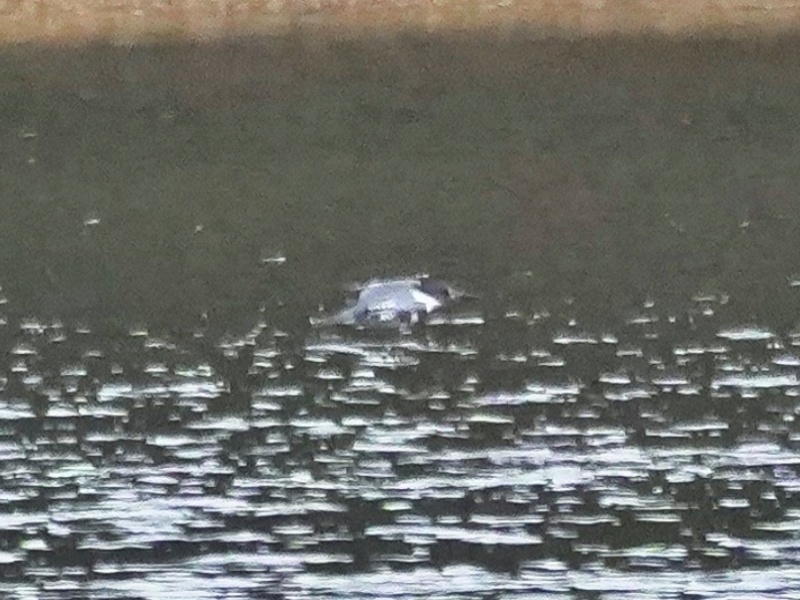kingfisher: (309, 274, 472, 333)
